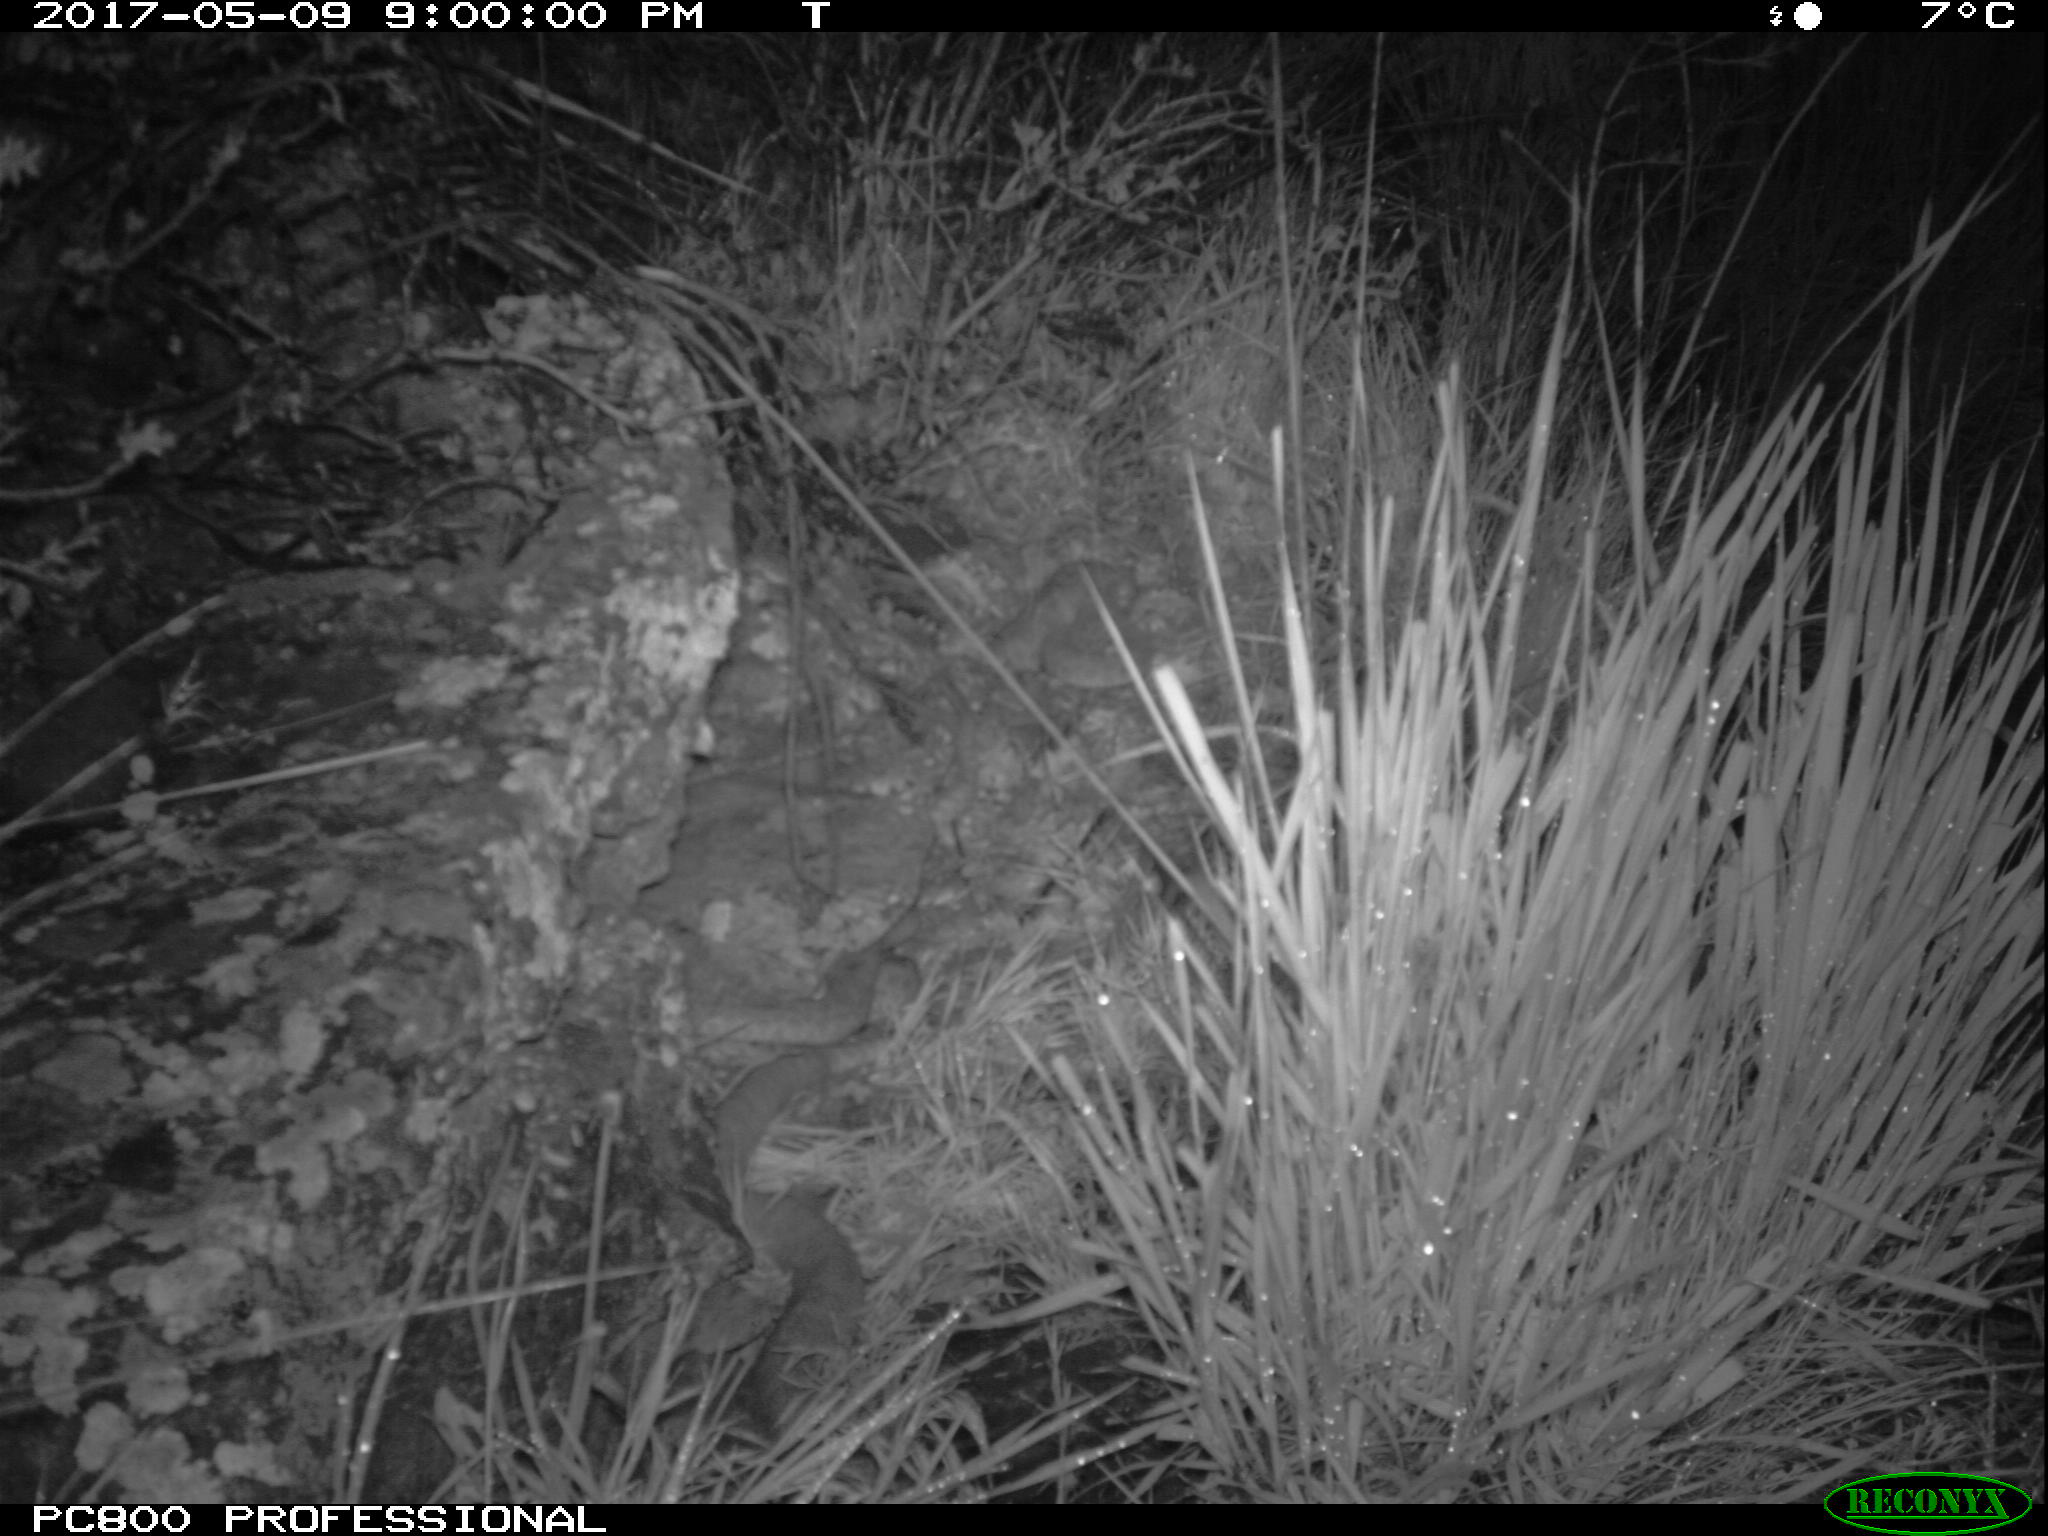snake: (706, 1028, 895, 1439), (993, 550, 1200, 705), (695, 952, 897, 1042)
